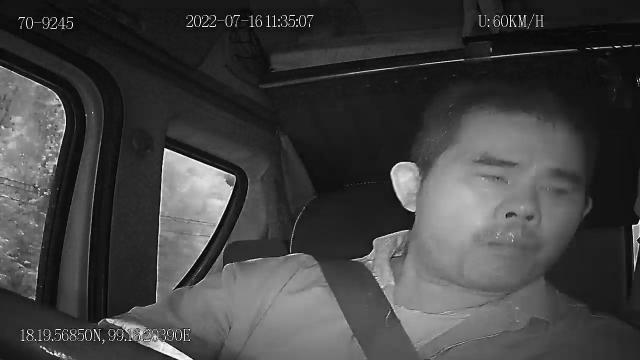SafeDriving: (530, 173, 580, 209), (464, 161, 520, 190)
Seatbelt: (312, 256, 423, 360)
